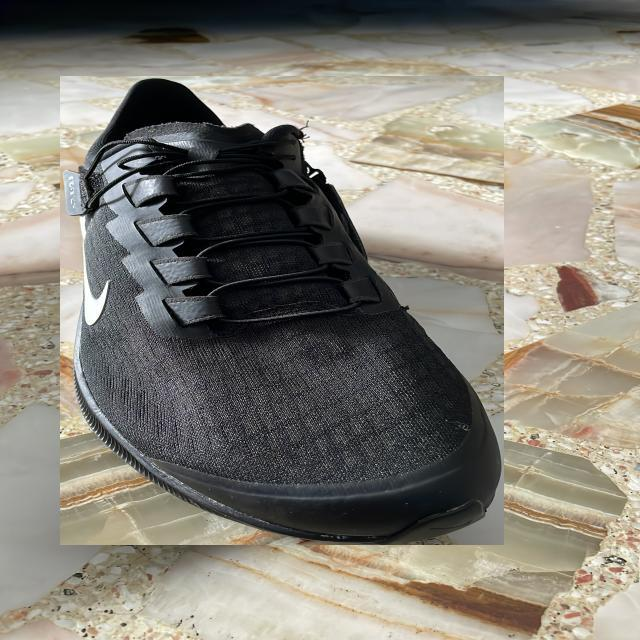shoe: (60, 76, 504, 545)
